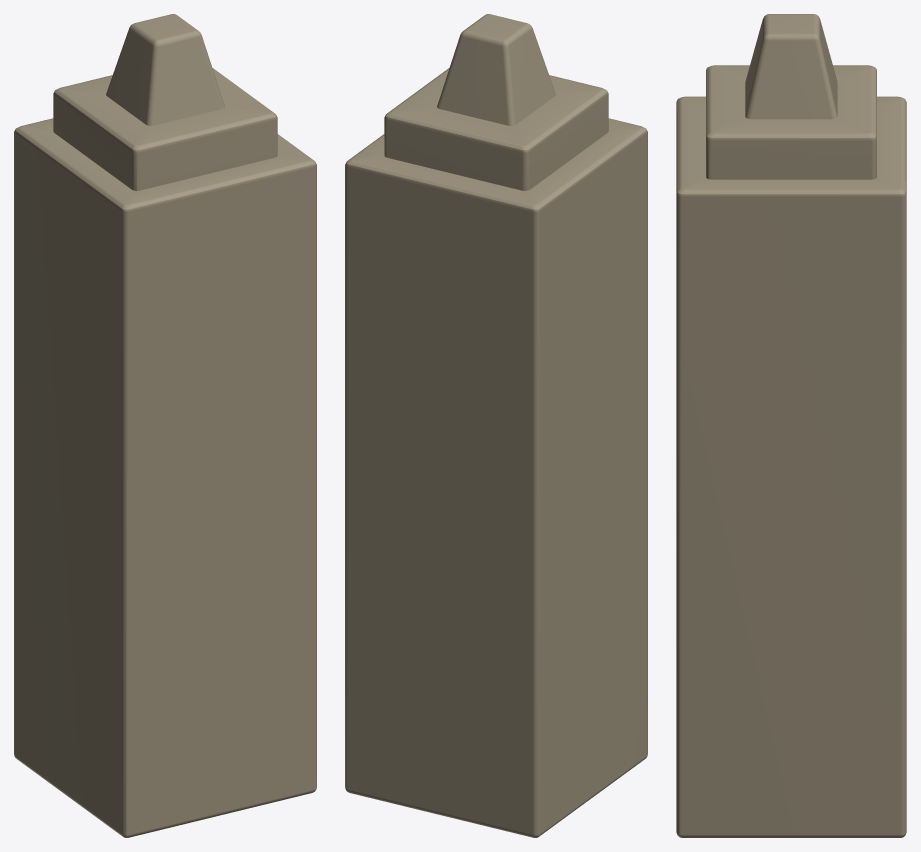
File: WallCorner_001.fbx
3 renders of one model, left to right at view 1: azimuth 30°, elevation 25°; view 2: azimuth 150°, elevation 25°; view 3: azimuth 270°, elevation 25°, orthographic. The views are drawn at different scales.
Visible parts, largest first — view 1: WallCorner_001; view 2: WallCorner_001; view 3: WallCorner_001.
Boxes of the visible parts, x1=… form: WallCorner_001: x1=14, y1=14, x2=316, y2=837; WallCorner_001: x1=345, y1=14, x2=647, y2=837; WallCorner_001: x1=676, y1=14, x2=906, y2=837.
Size of the model in its own units: 1 by 3.68 by 1.
